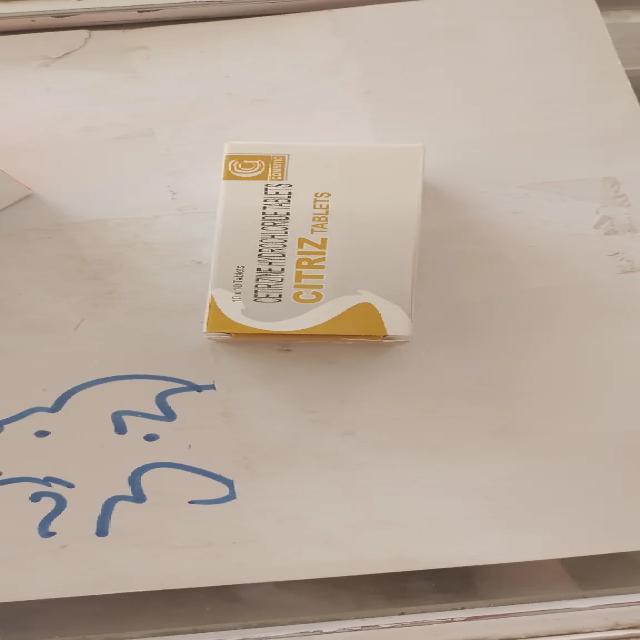drug-name: (291, 234, 332, 306)
